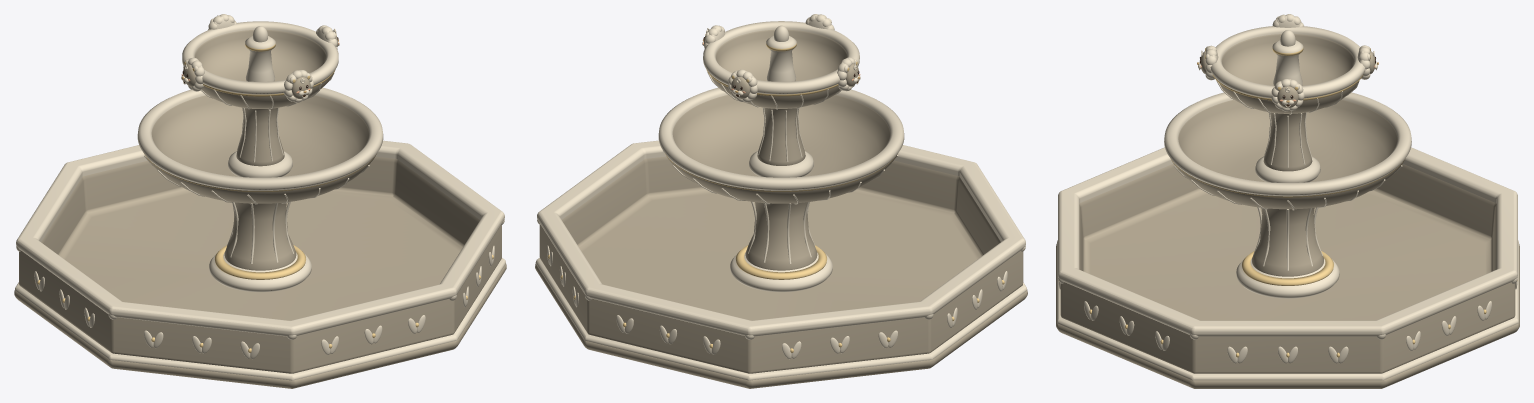
File: Anime_Fountain_high_rim.glb
3 renders of one model, left to right at view 1: azimuth 30°, elevation 25°; view 2: azimuth 150°, elevation 25°; view 3: azimuth 270°, elevation 25°, orthographic.
Visible parts, largest first — view 1: Anime_Fountain_high_rim_Dry; view 2: Anime_Fountain_high_rim_Dry; view 3: Anime_Fountain_high_rim_Dry.
Part boxes in pixels (left/top/right/bottom): Anime_Fountain_high_rim_Dry: left=14, top=14, right=506, bottom=388; Anime_Fountain_high_rim_Dry: left=535, top=14, right=1027, bottom=388; Anime_Fountain_high_rim_Dry: left=1056, top=14, right=1519, bottom=388.
Bounding box in the file's own units: 8.46 × 5.32 × 8.46.
